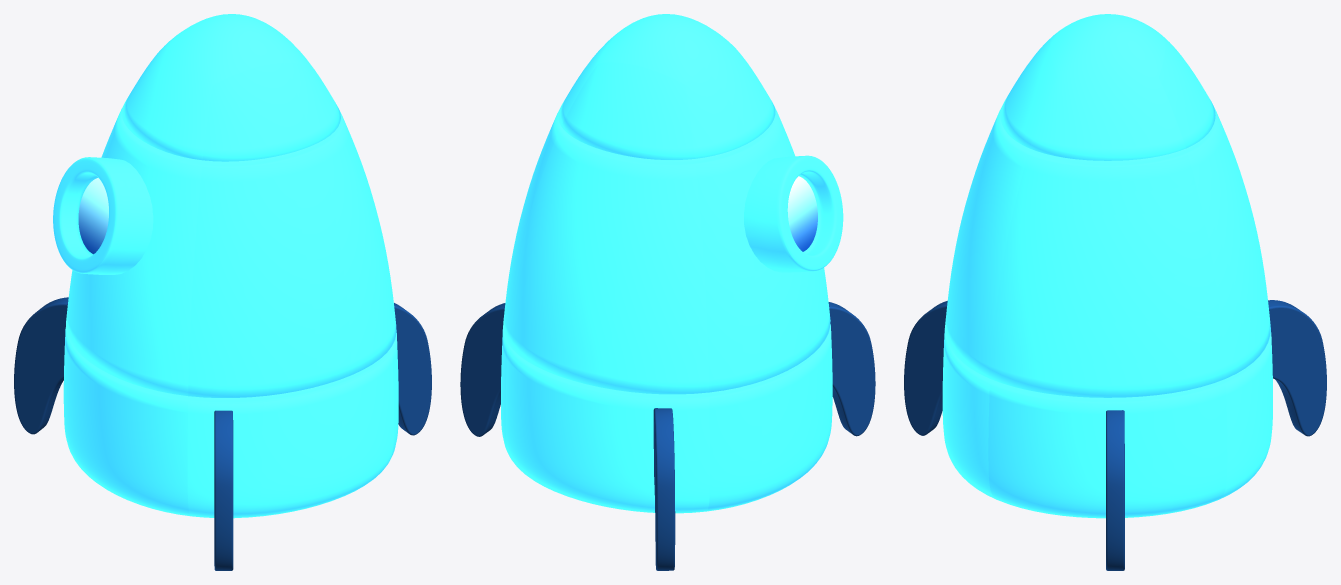
File: RocketBlue.fbx
3 renders of one model, left to right at view 1: azimuth 30°, elevation 25°; view 2: azimuth 150°, elevation 25°; view 3: azimuth 270°, elevation 25°, orthographic.
Parts seen in each view (by area): view 1: Body, Window, BezierCircle.001, BezierCircle.004, BezierCircle.005, Glass; view 2: Body, Window, BezierCircle.005, BezierCircle.004, BezierCircle.001, Glass; view 3: Body, BezierCircle.001, BezierCircle.005, BezierCircle.004.
Part boxes in pixels (box(x1,y1,x2,y2)): Body: box(63, 14, 398, 518); Window: box(53, 157, 153, 274); BezierCircle.001: box(14, 297, 68, 434); BezierCircle.004: box(394, 303, 431, 435); BezierCircle.005: box(214, 410, 233, 570); Glass: box(78, 178, 108, 254); Body: box(501, 14, 832, 513); Window: box(744, 155, 843, 272); BezierCircle.005: box(828, 302, 875, 436); BezierCircle.004: box(460, 303, 505, 436); BezierCircle.001: box(653, 408, 675, 570); Glass: box(787, 176, 817, 251); Body: box(942, 14, 1272, 518); BezierCircle.001: box(1268, 300, 1326, 436); BezierCircle.005: box(904, 301, 947, 435); BezierCircle.004: box(1106, 410, 1124, 570).
Size of the model in its own units: 1.72 by 2.1 by 1.74.
Materials: 4 (3 with a texture image).
